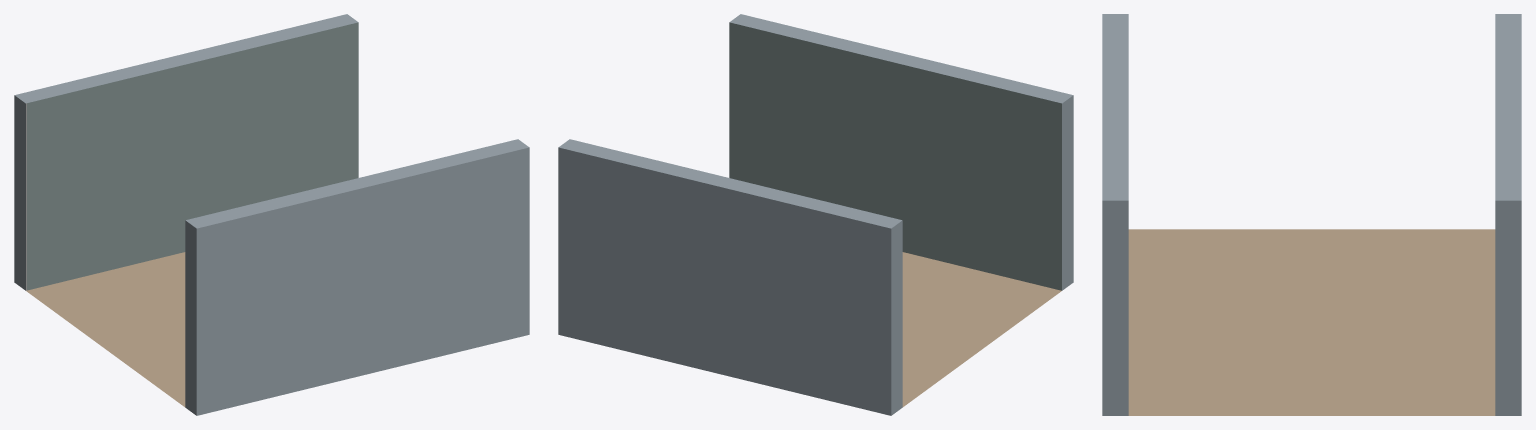
File: Room_04_Pasillo 1.fbx
The picture shows the model from 3 angles, left to right: view 1: azimuth 30°, elevation 25°; view 2: azimuth 150°, elevation 25°; view 3: azimuth 270°, elevation 25°; orthographic projection. The views are drawn at different scales.
Parts seen in each view (by area): view 1: room_04_pasillo; view 2: room_04_pasillo; view 3: room_04_pasillo.
Boxes of the visible parts, x1,y1,x2,y2 form: room_04_pasillo: (14,14,529,415); room_04_pasillo: (558,14,1073,415); room_04_pasillo: (1102,14,1521,415).
Bounding box in the file's own units: 15.81 × 8.5 × 15.
